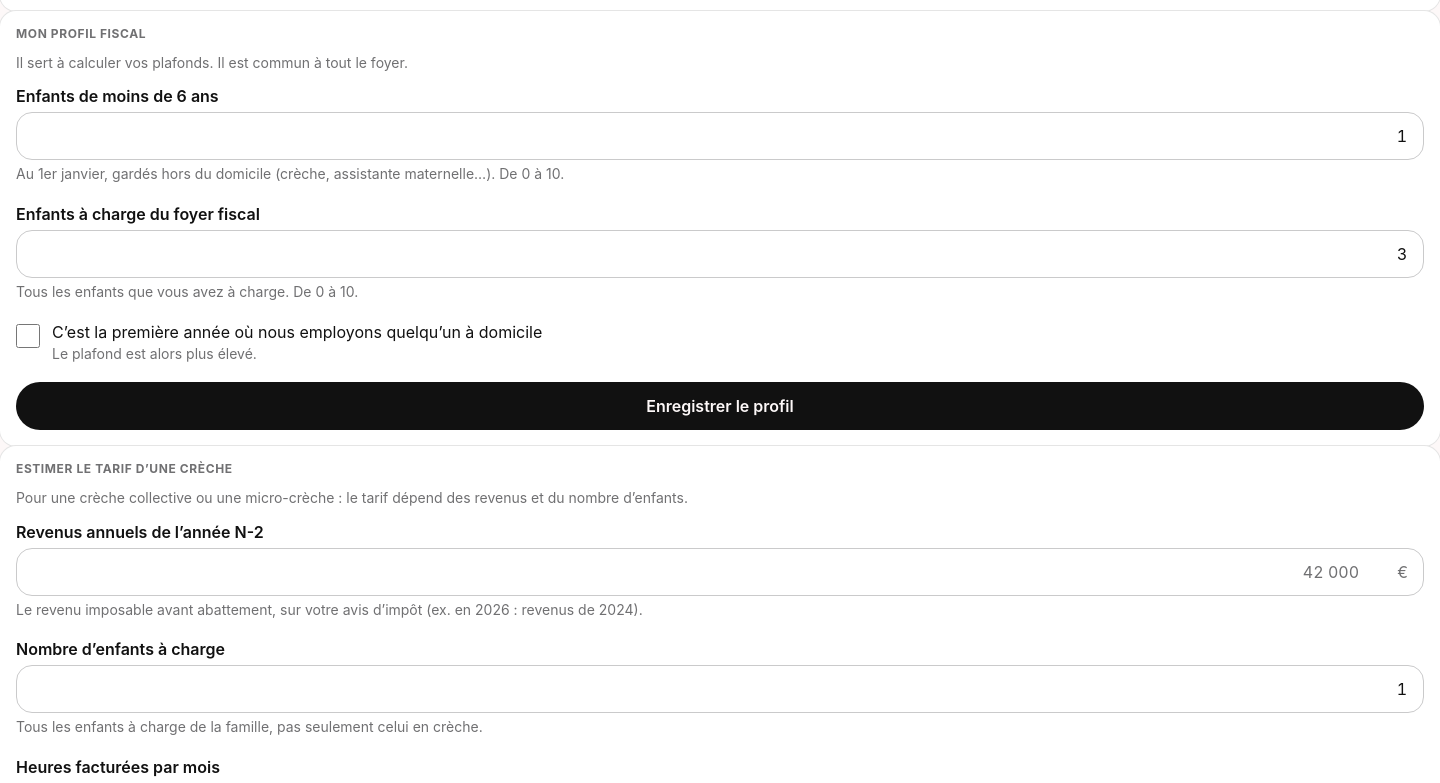
Test: AidesPage › fiscal profile › shows a message when saving fails
(page scrolled)
Expected: the field labelled "Enfants de moins de 6 ans" is shown, x1=16 y1=112 x2=1424 y2=160
Click the button "Enregistrer le profil" at {"x": 720, "y": 406}, box x1=16 y1=382 x2=1424 y2=430
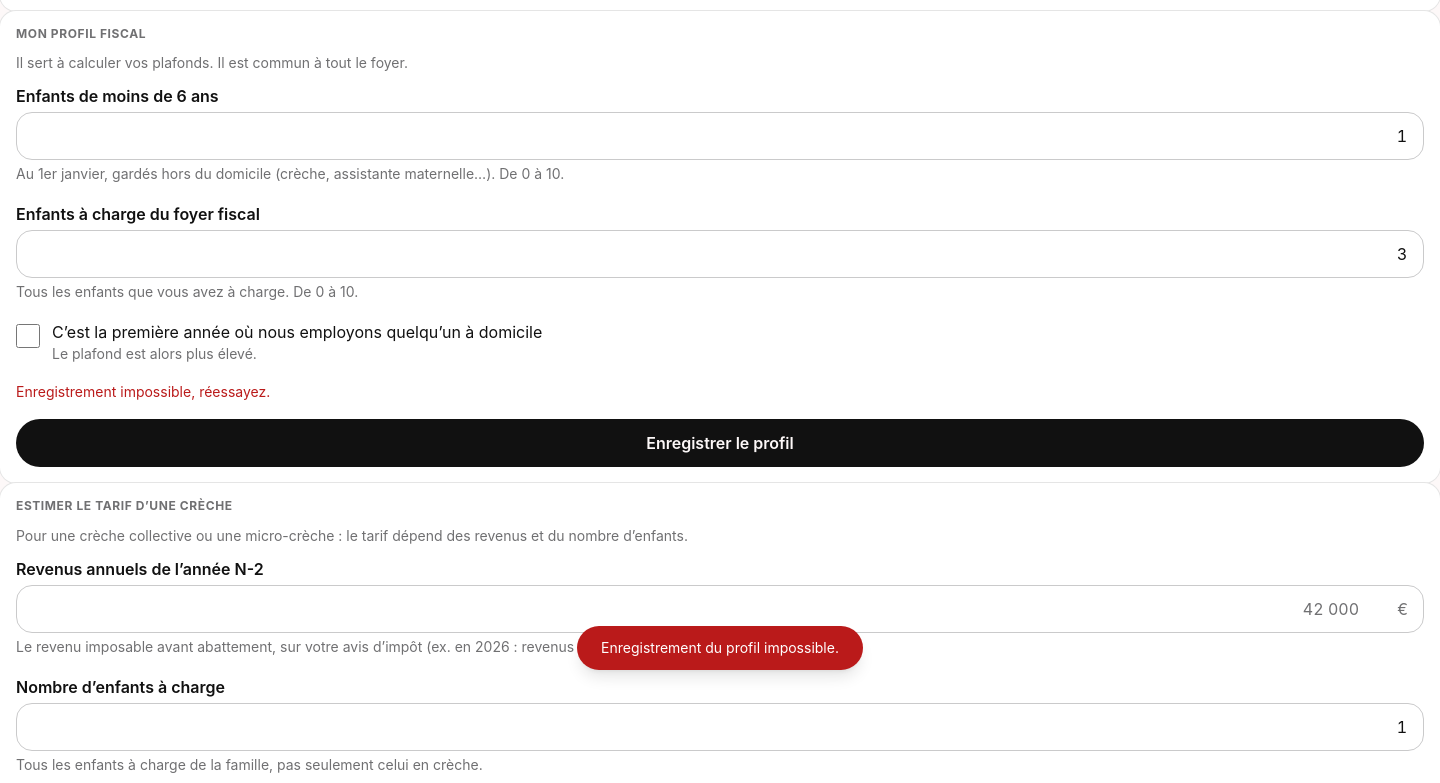
Result: the text "Enregistrement impossible, réessayez." is shown at x1=16 y1=383 x2=270 y2=400
